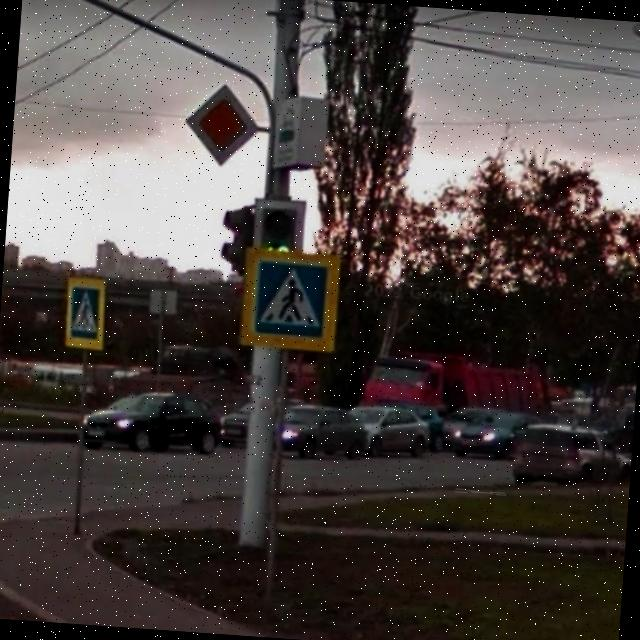Droga z pierwszenstwem: (180, 74, 266, 172)
Przejscie dla pieszych: (238, 246, 344, 354), (61, 272, 112, 350)
